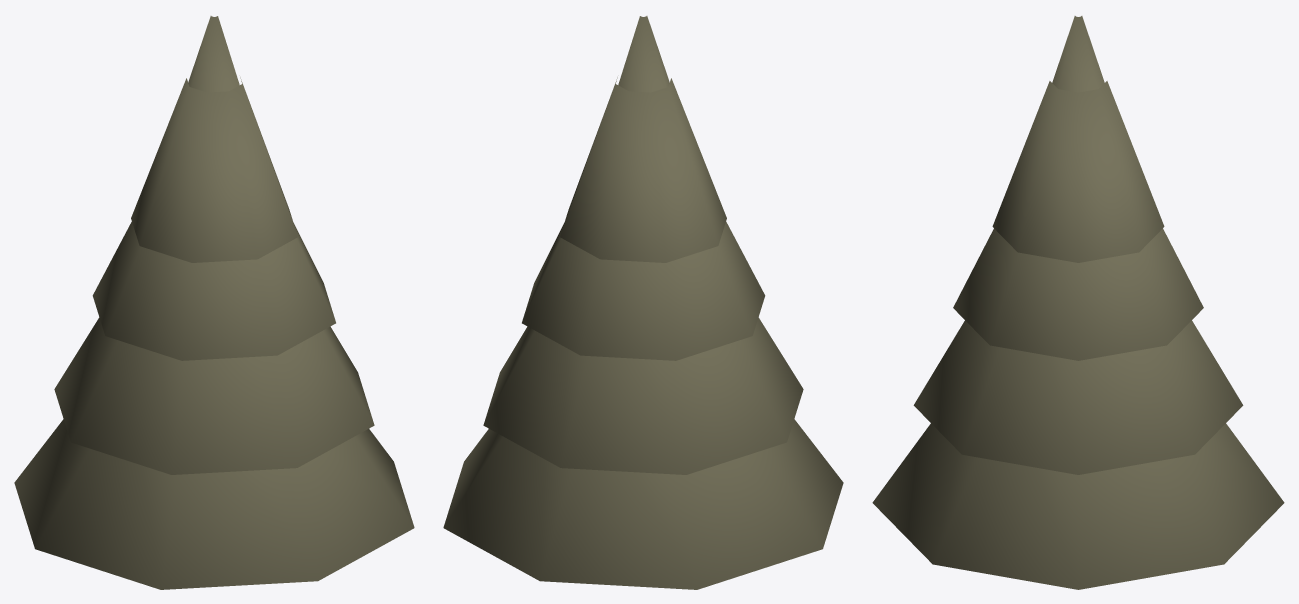
3 renders of one model, left to right at view 1: azimuth 30°, elevation 25°; view 2: azimuth 150°, elevation 25°; view 3: azimuth 270°, elevation 25°, orthographic.
Visible parts, largest first — view 1: pine; view 2: pine; view 3: pine.
Boxes of the visible parts, left/top/right/bottom form: pine: left=14, top=16, right=414, bottom=589; pine: left=443, top=16, right=843, bottom=589; pine: left=872, top=16, right=1284, bottom=589.
Bounding box in the file's own units: 2.3 × 3.45 × 2.3.
